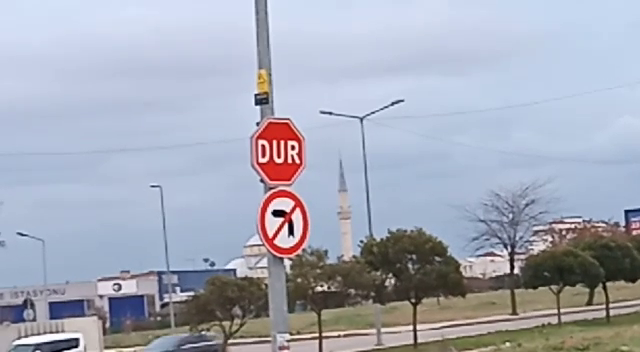no_left: (253, 187, 313, 259)
stop: (247, 115, 310, 188)
